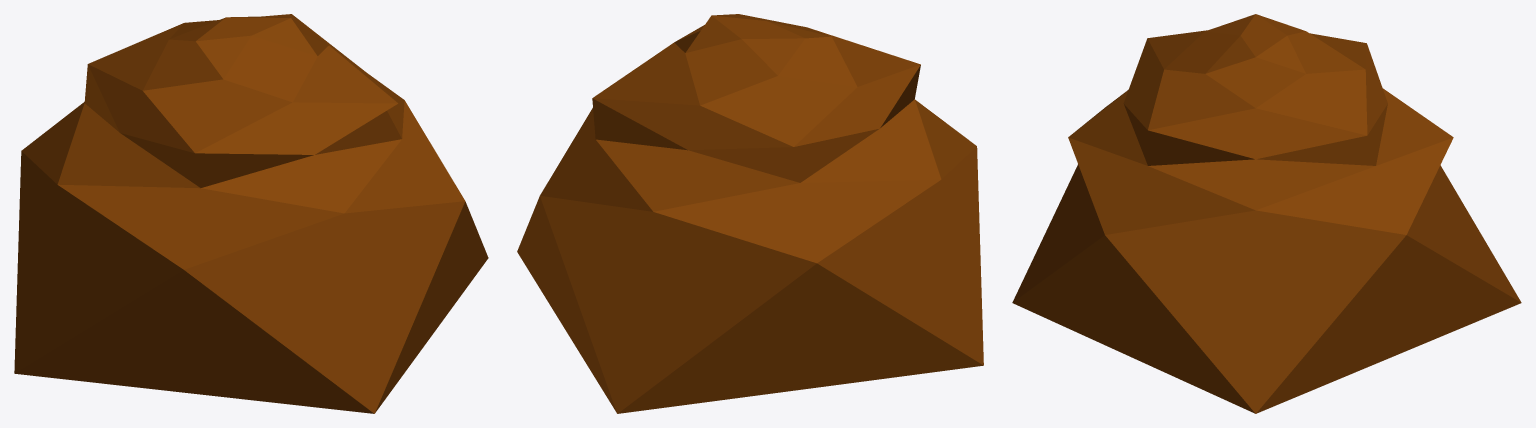
The model's file is Estructura 1.fbx.
The picture shows the model from 3 angles, left to right: view 1: azimuth 30°, elevation 25°; view 2: azimuth 150°, elevation 25°; view 3: azimuth 270°, elevation 25°; orthographic projection. The views are drawn at different scales.
Parts seen in each view (by area): view 1: ESTRUCTURA 1; view 2: ESTRUCTURA 1; view 3: ESTRUCTURA 1.
Part boxes in pixels (x1,y1,x2,y2): ESTRUCTURA 1: (14, 14, 488, 413); ESTRUCTURA 1: (517, 14, 983, 413); ESTRUCTURA 1: (1012, 14, 1521, 413).
Size of the model in its own units: 238 by 138 by 239.
